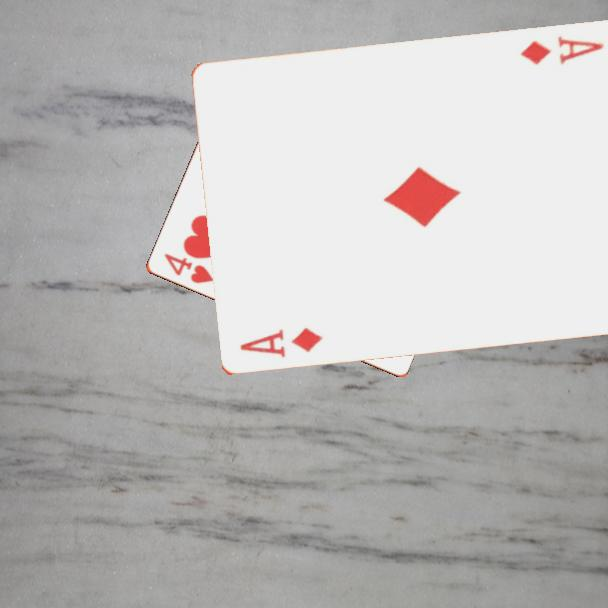d01: (236, 324, 325, 360), (516, 33, 606, 68)
h04: (160, 250, 217, 287)
